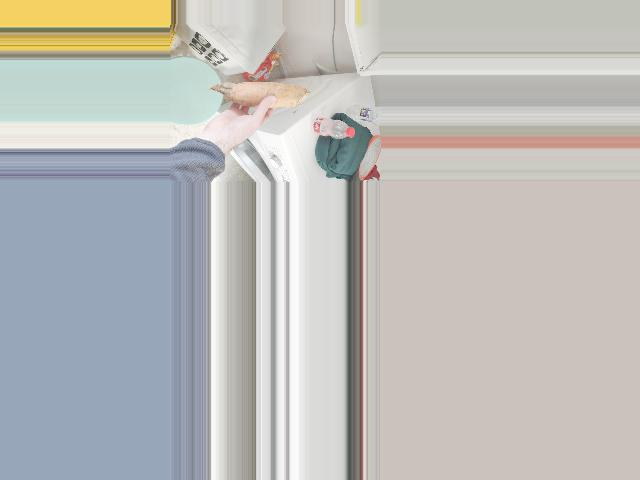sweet_potato: (207, 80, 302, 113)
